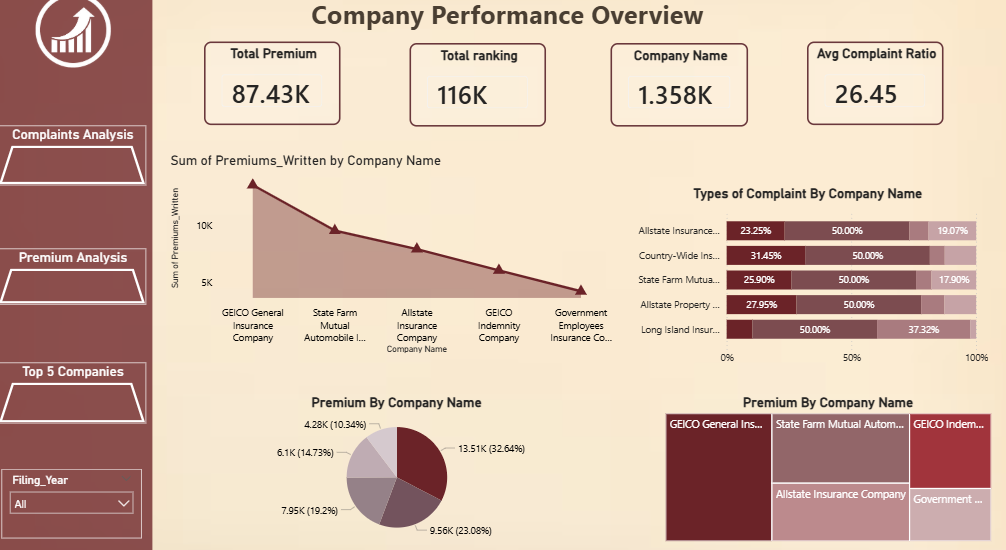

What the dashboard file says about the page in this screenshot:
{"tool":"powerbi","page":{"name":"Page 1","canvas":[1280,720],"ordinal":0},"visuals":[{"type":"textbox","box":[124,0,1052,78],"z":0},{"type":"cardVisual","title":"Total Premium","fields":{"Data":["Sum(AutoMobile Cleaned data.Premiums_Written)"]},"box":[268.3,61.7,171.7,105],"z":1000},{"type":"cardVisual","title":"Avg Complaint Ratio","fields":{"Data":["Avg(AutoMobile Cleaned data.Total_Complaints)"]},"box":[1028.3,61.7,171.7,105],"z":2000},{"type":"cardVisual","title":"Total ranking","fields":{"Data":["Sum(AutoMobile Cleaned data.Ranking)"]},"box":[526.7,63.3,171.7,105],"z":3000},{"type":"cardVisual","title":"Company Name","fields":{"Data":["CountNonNull(AutoMobile Cleaned data.Company Name)"]},"box":[780,63.3,173.3,105],"z":4000},{"type":"lineChart","fields":{"Category":["AutoMobile Cleaned data.Company Name"],"Y":["Sum(AutoMobile Cleaned data.Premiums_Written)"]},"box":[221.9,201.6,575.2,257.9],"z":5000},{"type":"hundredPercentStackedBarChart","title":"Types of Complaint By Company Name","fields":{"Category":["AutoMobile Cleaned data.Company Name"],"Y":["Sum(AutoMobile Cleaned data.Not_Upheld_Complaints)","Sum(AutoMobile Cleaned data.Total_Complaints)","Sum(AutoMobile Cleaned data.Upheld_Complaints)","Sum(AutoMobile Cleaned data.Question_of_Fact_Complaints)"]},"box":[796.7,243.3,463.3,235],"z":6000},{"type":"pieChart","title":"Premium By Company Name","fields":{"Y":["Sum(AutoMobile Cleaned data.Premiums_Written)"],"Category":["AutoMobile Cleaned data.Company Name"]},"box":[241.7,506.7,538.3,190],"z":7000},{"type":"treemap","title":"Premium By Company Name","fields":{"Group":["AutoMobile Cleaned data.Company Name"],"Values":["Sum(AutoMobile Cleaned data.Premiums_Written)"]},"box":[845,506.7,420,190],"z":8000},{"type":"textbox","box":[0,0,203.2,720.5],"z":9000},{"type":"actionButton","title":"Complaints Analysis","box":[9.4,168.8,186,75],"z":10000},{"type":"image","box":[1.6,0,203.2,95.3],"z":11000},{"type":"actionButton","title":"Premium Analysis","box":[9.4,323.5,186,70.3],"z":12000},{"type":"actionButton","title":"Top 5 Companies","box":[9.4,467.3,186,76.6],"z":13000},{"type":"slicer","fields":{"Values":["AutoMobile Cleaned data.Filing_Year"]},"box":[14.1,601.8,176.6,87.5],"z":14000}]}

Visuals, with their boxes in screenshot pixels (x1, y1, x2, y2), scaled from the page's 1280x720 canvas onto the 1006x550 screenshot:
textbox: box=[97, 0, 924, 60]
"Total Premium" cardVisual: box=[211, 47, 346, 127]
"Avg Complaint Ratio" cardVisual: box=[808, 47, 943, 127]
"Total ranking" cardVisual: box=[414, 48, 549, 129]
"Company Name" cardVisual: box=[613, 48, 749, 129]
lineChart - AutoMobile Cleaned data.Company Name x Sum(AutoMobile Cleaned data.Premiums_Written): box=[174, 154, 626, 351]
"Types of Complaint By Company Name" hundredPercentStackedBarChart: box=[626, 186, 990, 365]
"Premium By Company Name" pieChart: box=[190, 387, 613, 532]
"Premium By Company Name" treemap: box=[664, 387, 994, 532]
textbox: box=[0, 0, 160, 549]
"Complaints Analysis" actionButton: box=[7, 129, 154, 186]
image: box=[1, 0, 161, 73]
"Premium Analysis" actionButton: box=[7, 247, 154, 301]
"Top 5 Companies" actionButton: box=[7, 357, 154, 415]
slicer - AutoMobile Cleaned data.Filing_Year: box=[11, 460, 150, 527]
